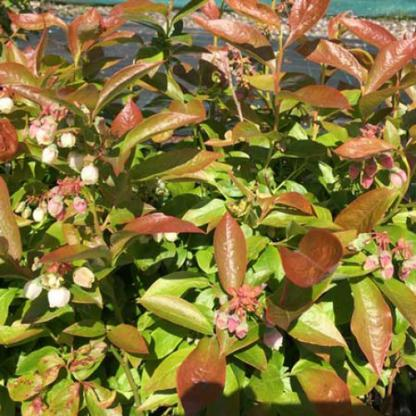Blueberry leaf: (268, 220, 364, 295), (340, 260, 399, 377), (166, 326, 242, 413), (89, 57, 170, 121), (120, 146, 222, 188), (127, 203, 215, 251), (215, 205, 252, 304), (278, 77, 355, 116), (102, 319, 159, 363)
